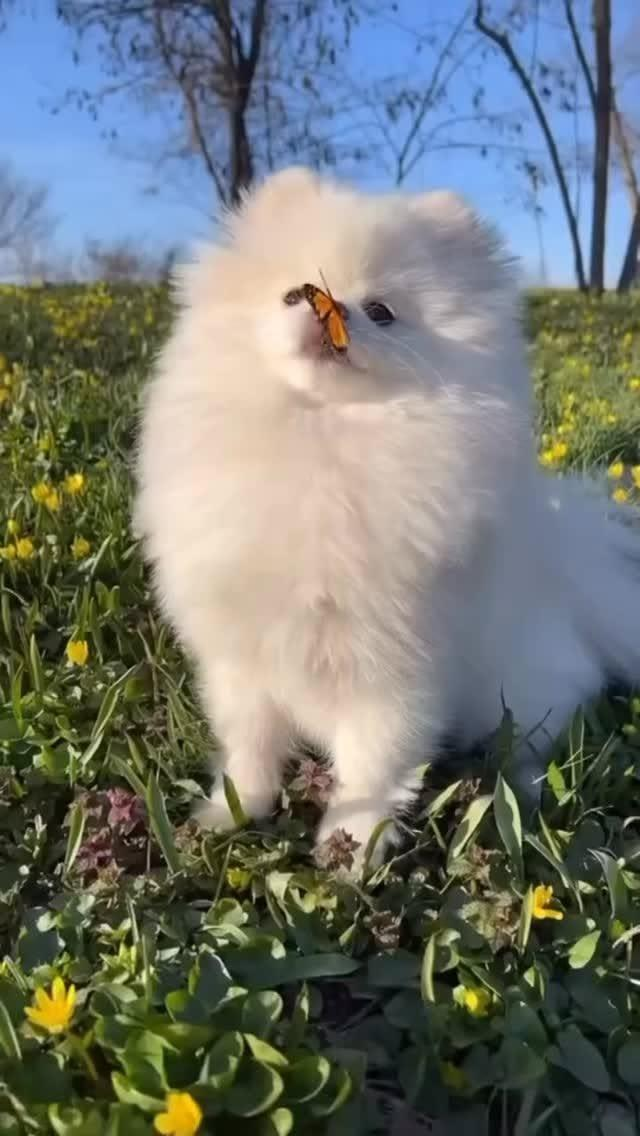puppy-dog: (126, 160, 640, 882)
